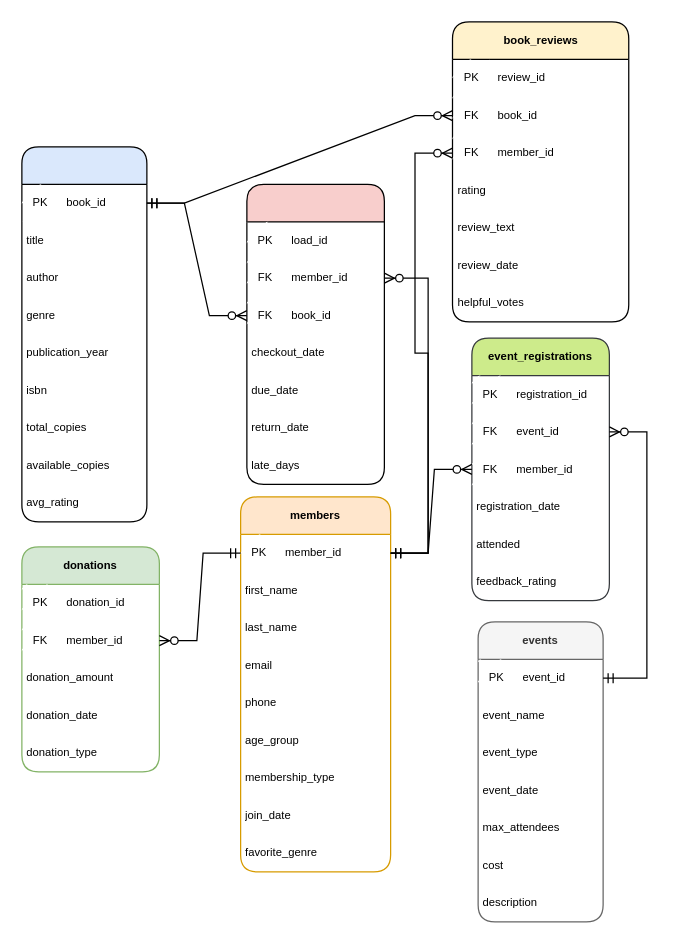
The diagram is 680 pixels wide and 944 high, and some of its shapes have lost their labels. The shapes that lost their labels are listed below. From the top down, each one's box as (x1, y1, x2, y2) in pixels, then its label:
(21, 146, 147, 522): books
(246, 183, 384, 484): book_loans
